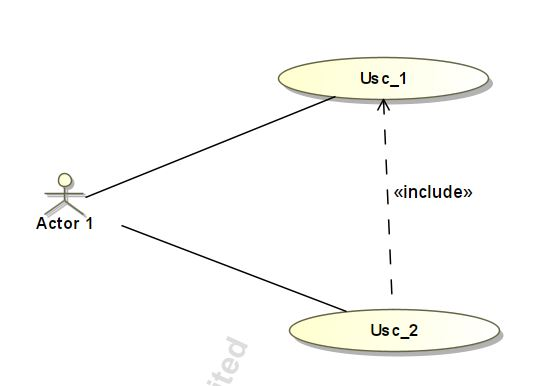actor: (44, 172, 86, 216)
association: (84, 96, 336, 199), (120, 224, 348, 311), (376, 98, 394, 295)
text: (392, 182, 476, 201), (33, 215, 97, 233), (356, 68, 409, 89), (369, 321, 421, 340)
use_case: (277, 55, 489, 102), (288, 308, 500, 353)
